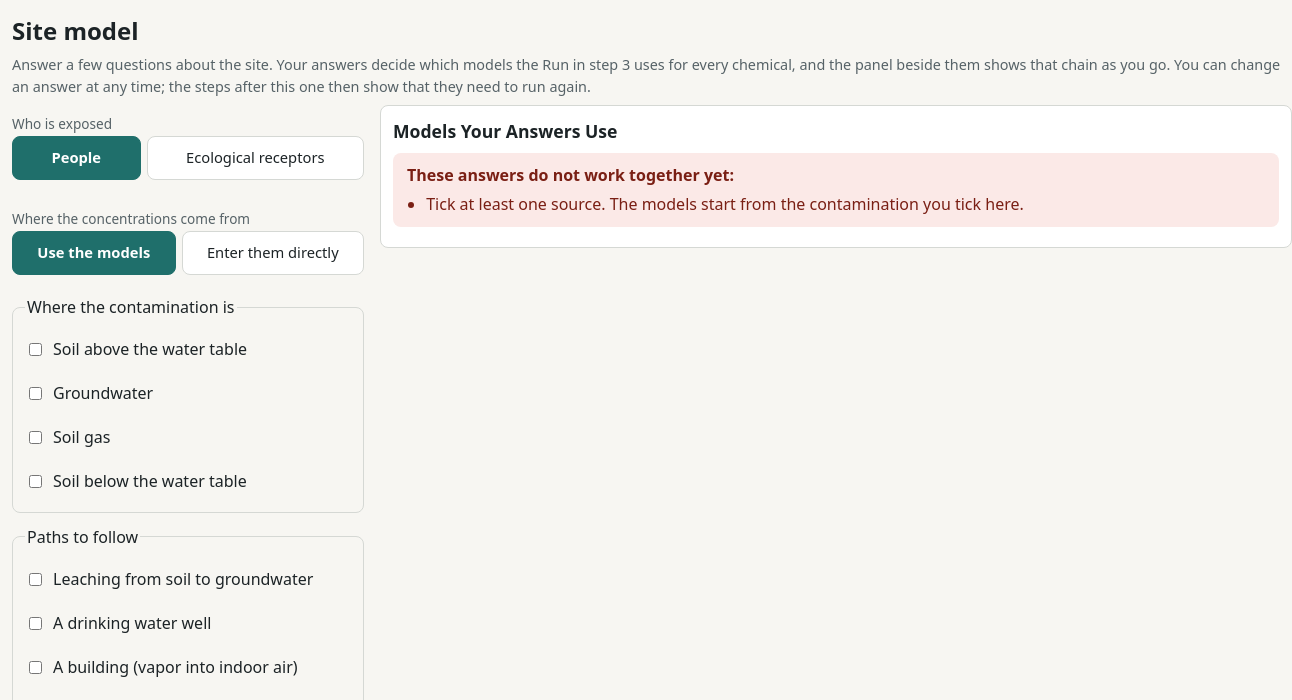
it: SiteStep › shows the chain panel: per path the source, the models and the notes
Click the checkbox labelled "Soil above the water table" at (36, 350), box [29,343,42,356]
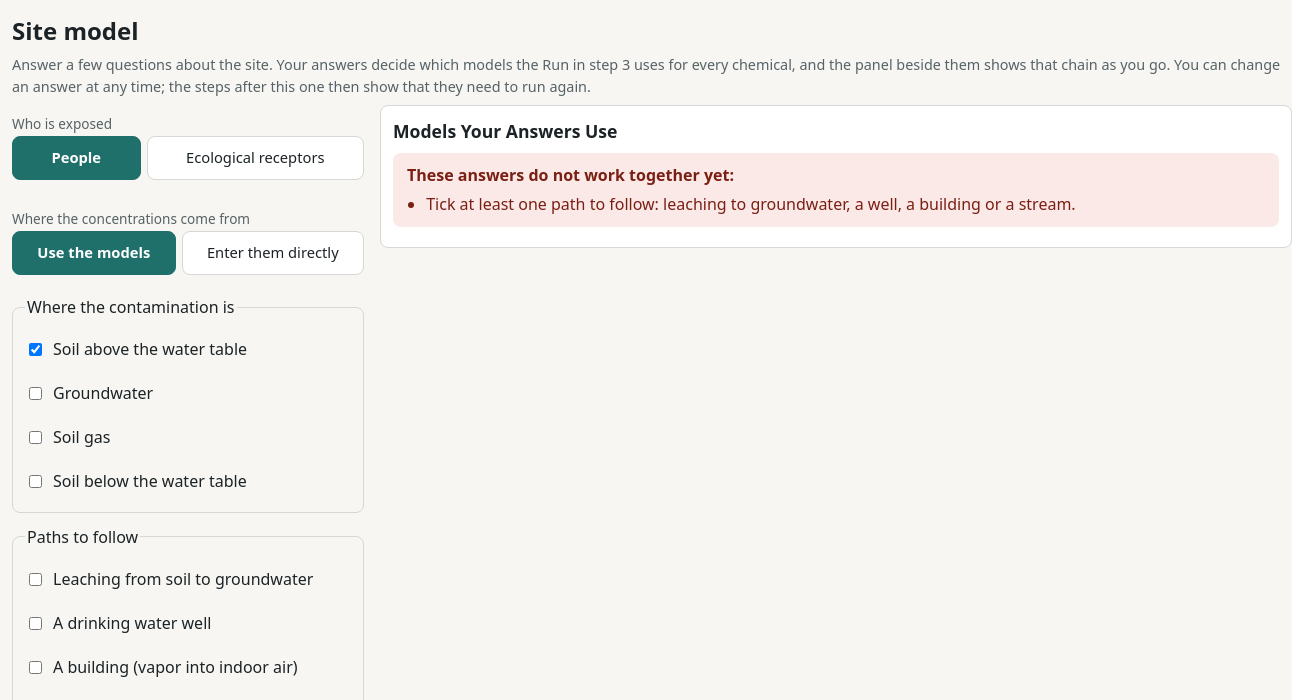
Click the checkbox labelled "Leaching from soil to groundwater" at (36, 579), box [29,573,42,586]
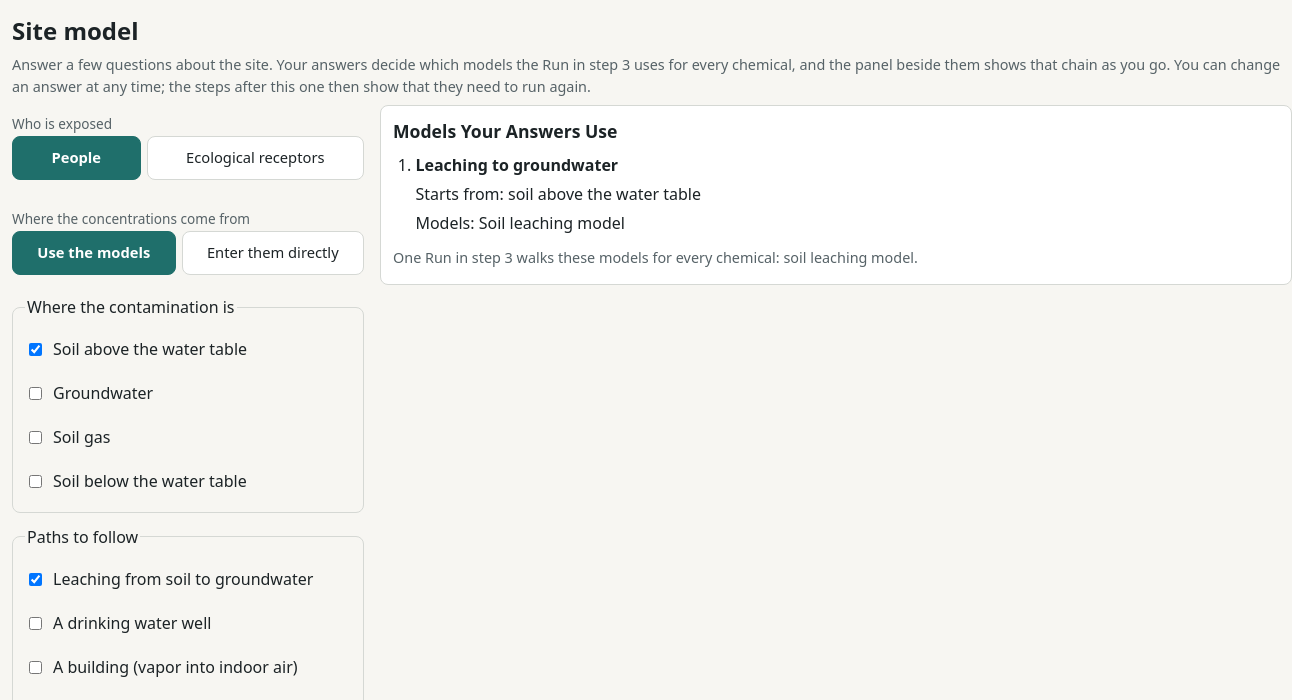
Click the checkbox labelled "A drinking water well" at (36, 623), box [29,617,42,630]
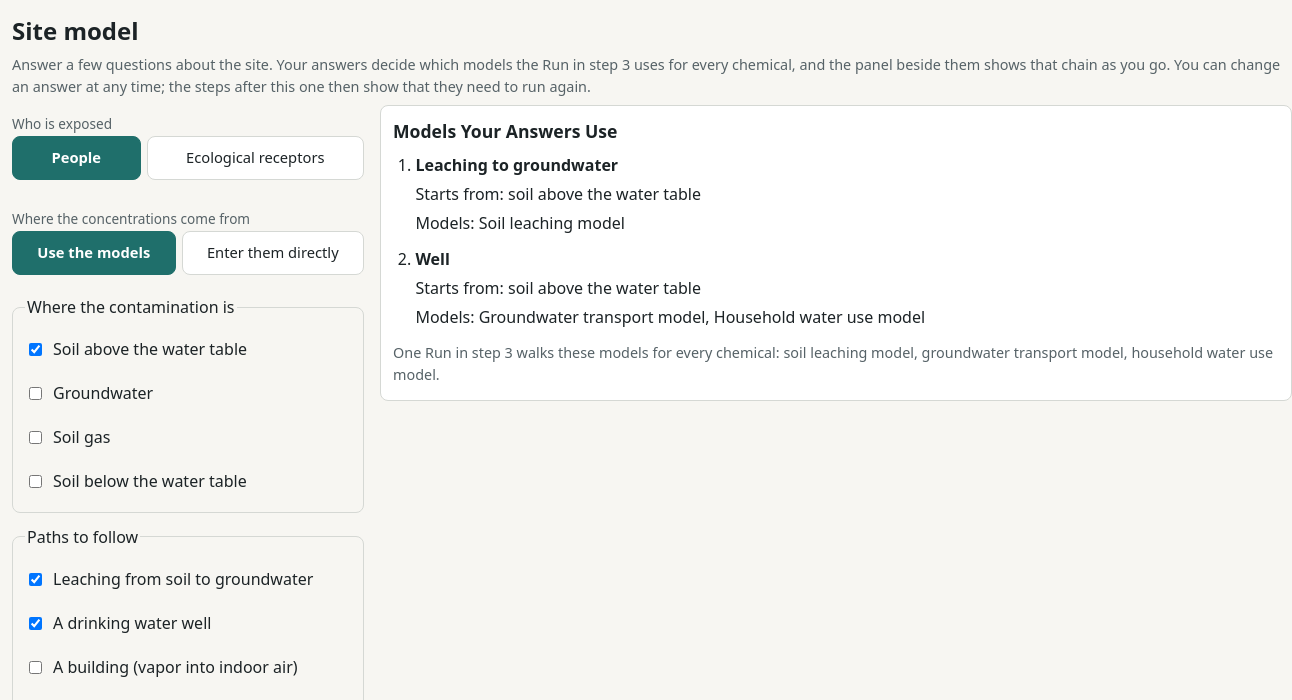
Check: the text "Leaching to groundwater" is shown, box [415,154,618,176]
Check: the text "Models: Soil leaching model" is shown, box [415,212,625,234]
Check: the text "Groundwater transport model" is shown, box [479,306,925,328]
